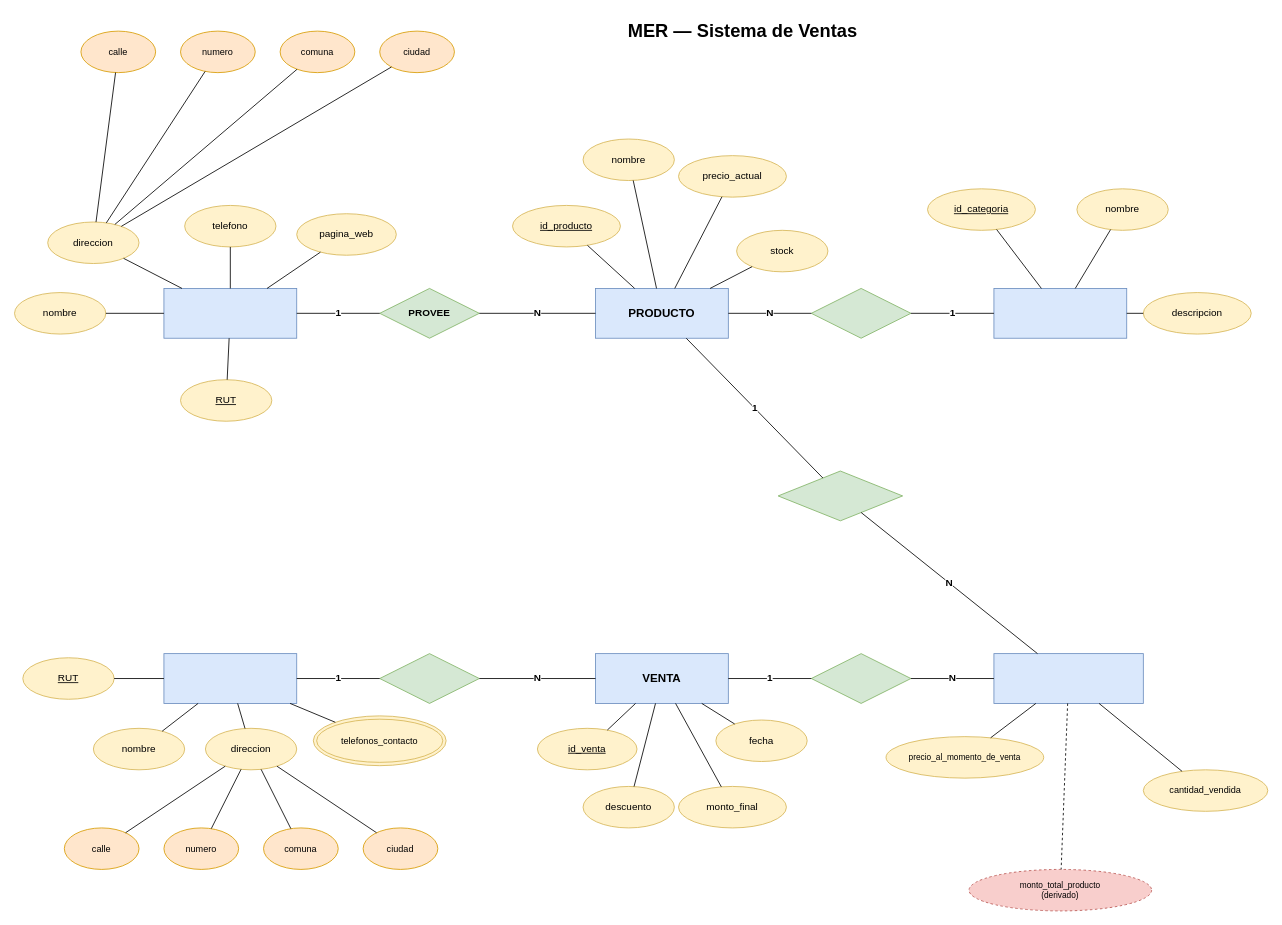
Some shapes in this 1282 by 925 pixel diagram are drawn without their labels. The shapes that lost their labels are listed below. From the top down, each one's centre as x and y in pixels, then its label:
At [230,313]: "PROVEEDOR".
At [860,313]: "PERTENECE".
At [1060,313]: "CATEGORIA".
At [840,495]: "CORRESPONDE_A".
At [230,678]: "CLIENTE".
At [429,678]: "REALIZA".
At [860,678]: "CONTIENE".
At [1068,678]: "DETALLE_VENTA".
